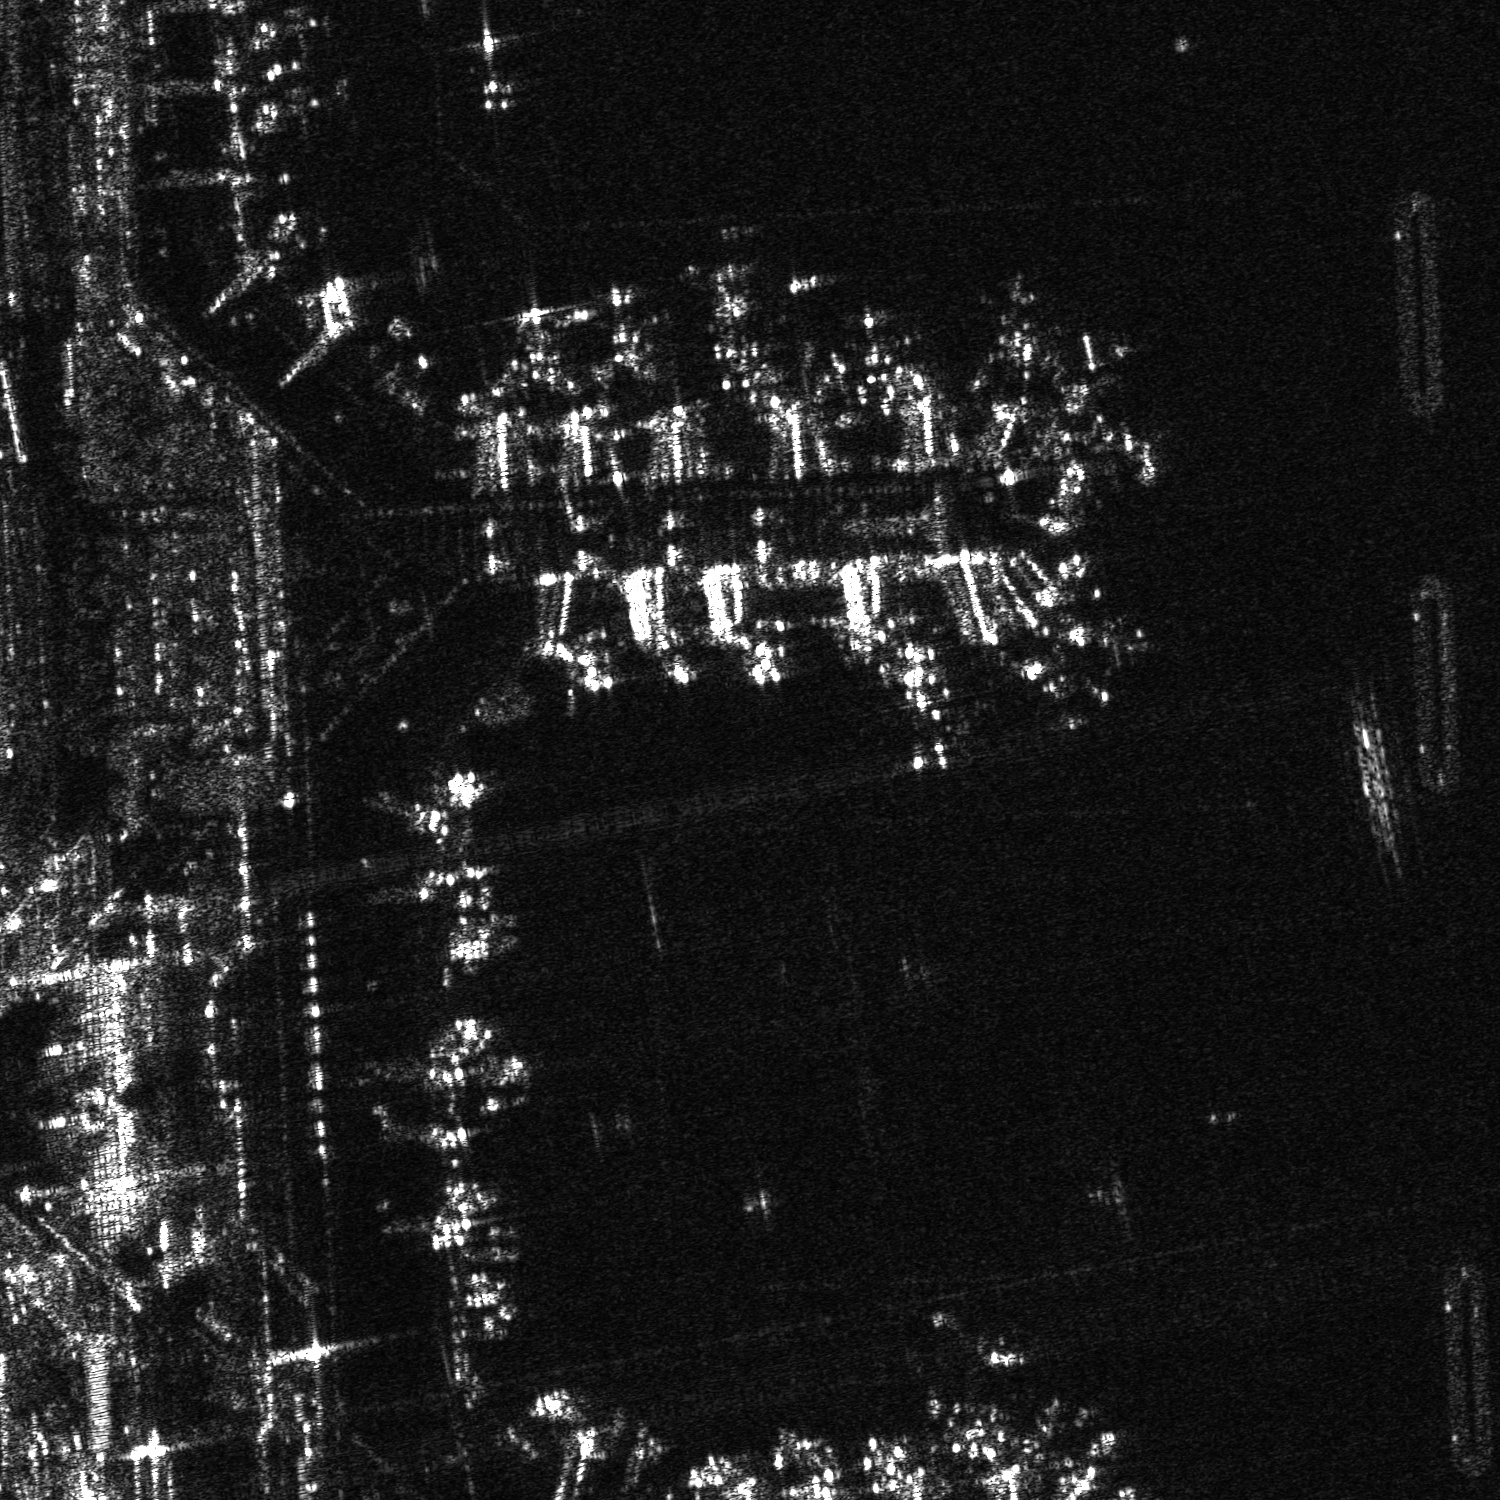A220: (924, 1337, 1027, 1445), (260, 73, 363, 143), (504, 295, 576, 396)
A320/321: (424, 1007, 532, 1115), (879, 666, 973, 776), (413, 1174, 523, 1264), (705, 260, 780, 375), (981, 269, 1049, 376), (1059, 611, 1152, 672), (845, 304, 908, 390)
Boeing737: (1012, 651, 1126, 714), (466, 25, 534, 117)
other: (595, 282, 658, 383)
